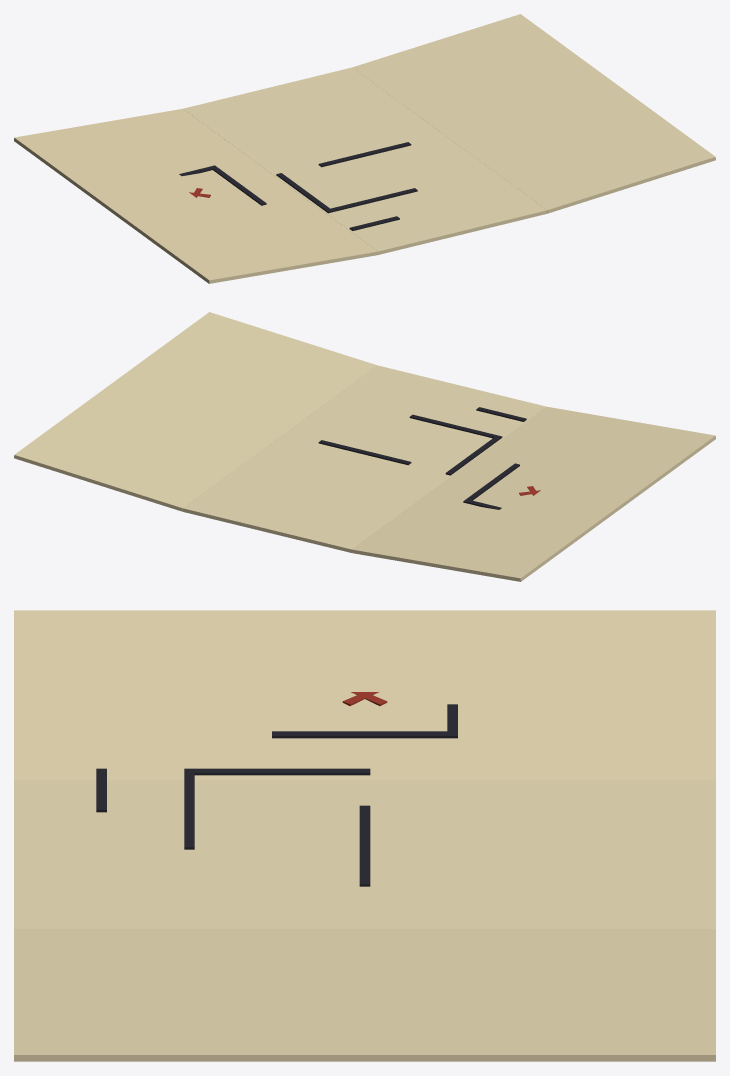
File: Prop_Lab_SurveyMap_B_LOD1.glb
3 renders of one model, top to bottom at view 1: azimuth 30°, elevation 25°; view 2: azimuth 150°, elevation 25°; view 3: azimuth 270°, elevation 25°, orthographic. The views are drawn at different scales.
Visible parts, largest first — view 1: Prop_Lab_SurveyMap_B; view 2: Prop_Lab_SurveyMap_B; view 3: Prop_Lab_SurveyMap_B.
Boxes of the visible parts, x1=… form: Prop_Lab_SurveyMap_B: x1=14, y1=14, x2=715, y2=283; Prop_Lab_SurveyMap_B: x1=14, y1=312, x2=715, y2=581; Prop_Lab_SurveyMap_B: x1=14, y1=610, x2=715, y2=1061.
Size of the model in its own units: 0.5998 by 0.0179 by 0.4.
